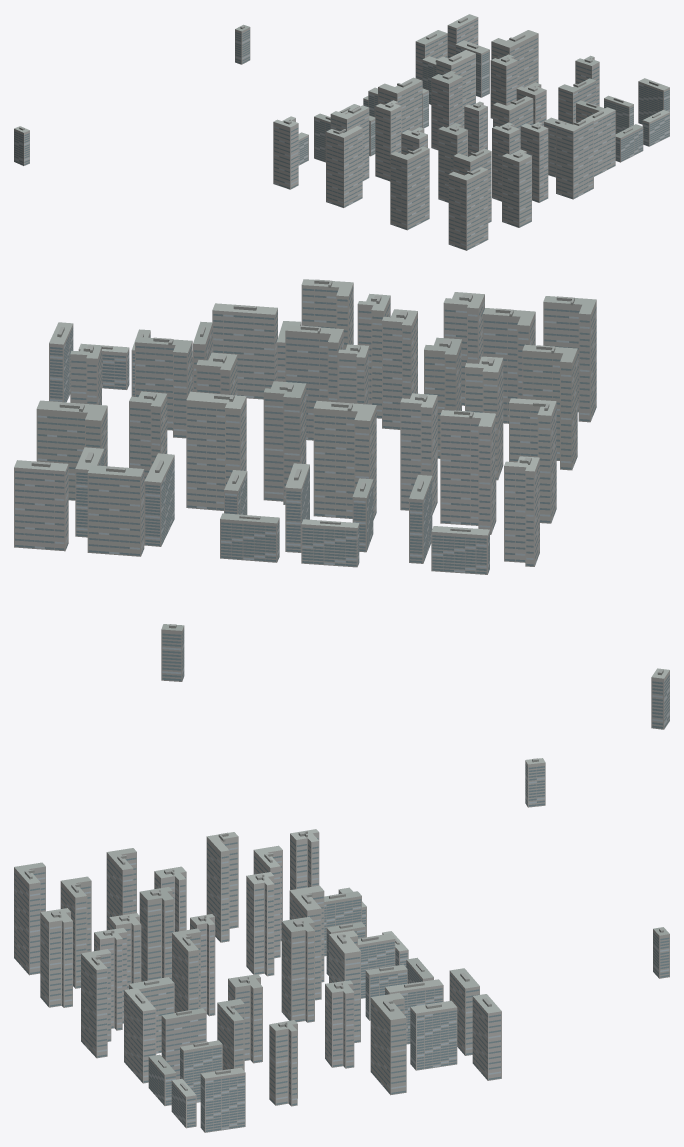
The model's file is apt-a10025850.glb.
3 views of the same model, one above another, from view 1: azimuth 30°, elevation 25°; view 2: azimuth 150°, elevation 25°; view 3: azimuth 270°, elevation 25° (orthographic). The views are drawn at different scales.
Parts seen in each view (by area): view 1: apt-a10025850; view 2: apt-a10025850; view 3: apt-a10025850.
Boxes of the visible parts, left/top/right/bottom form: apt-a10025850: left=14, top=14, right=669, bottom=250; apt-a10025850: left=14, top=279, right=669, bottom=729; apt-a10025850: left=14, top=758, right=669, bottom=1132.
Bounding box in the file's own units: 755 × 99 × 631.
